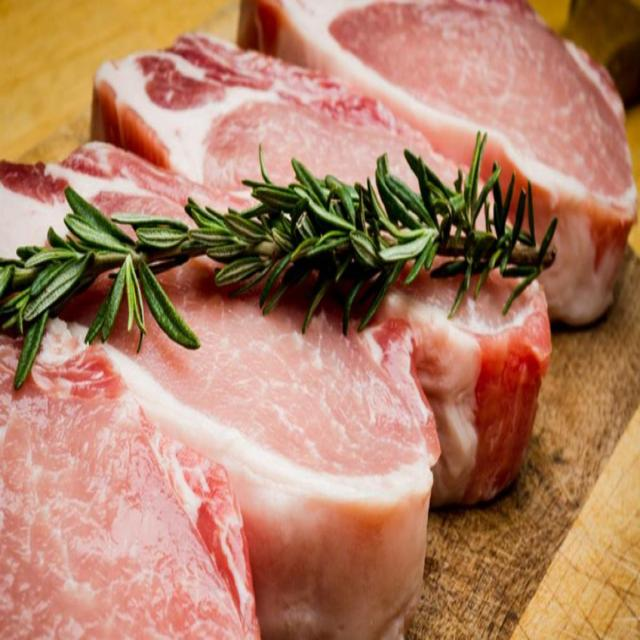carne de res: (3, 0, 623, 620)
